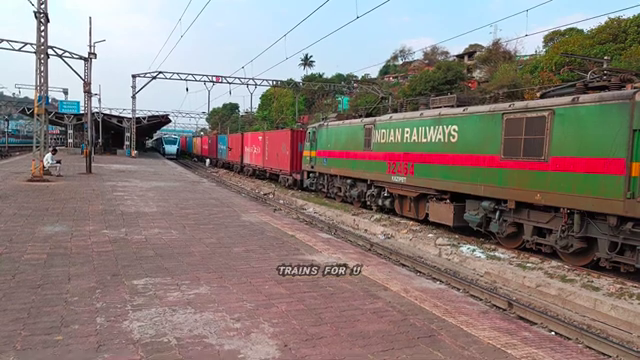Engine: (376, 158, 421, 179)
